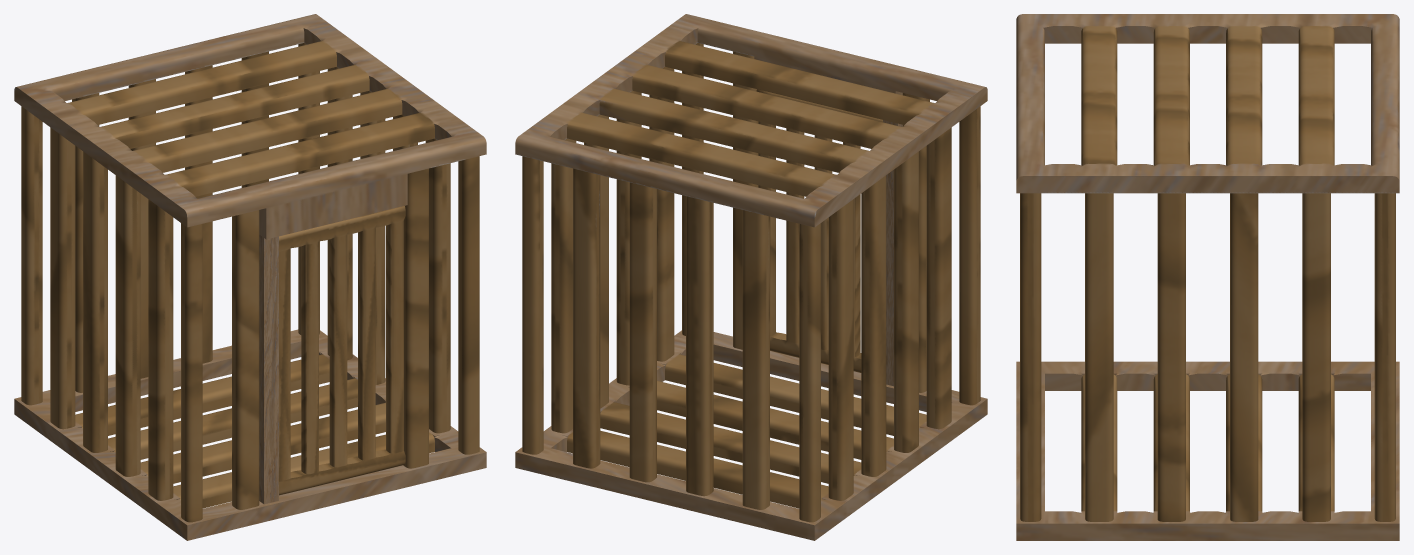
File: FullCageObject 1.fbx
3 views of the same model, side by side, from view 1: azimuth 30°, elevation 25°; view 2: azimuth 150°, elevation 25°; view 3: azimuth 270°, elevation 25° (orthographic). The views are drawn at different scales.
Parts seen in each view (by area): view 1: Cage, CageDoor, CageDoorPivot; view 2: Cage, CageDoor, CageDoorPivot; view 3: Cage.
Boxes of the visible parts, x1,y1,x2,y2 form: Cage: (14,14,486,540); CageDoor: (279,206,405,495); CageDoorPivot: (259,235,278,504); Cage: (515,14,987,540); CageDoor: (756,89,882,372); CageDoorPivot: (883,120,902,386); Cage: (1016,14,1399,540).
Bounding box in the file's own units: 200 × 210 × 200.
